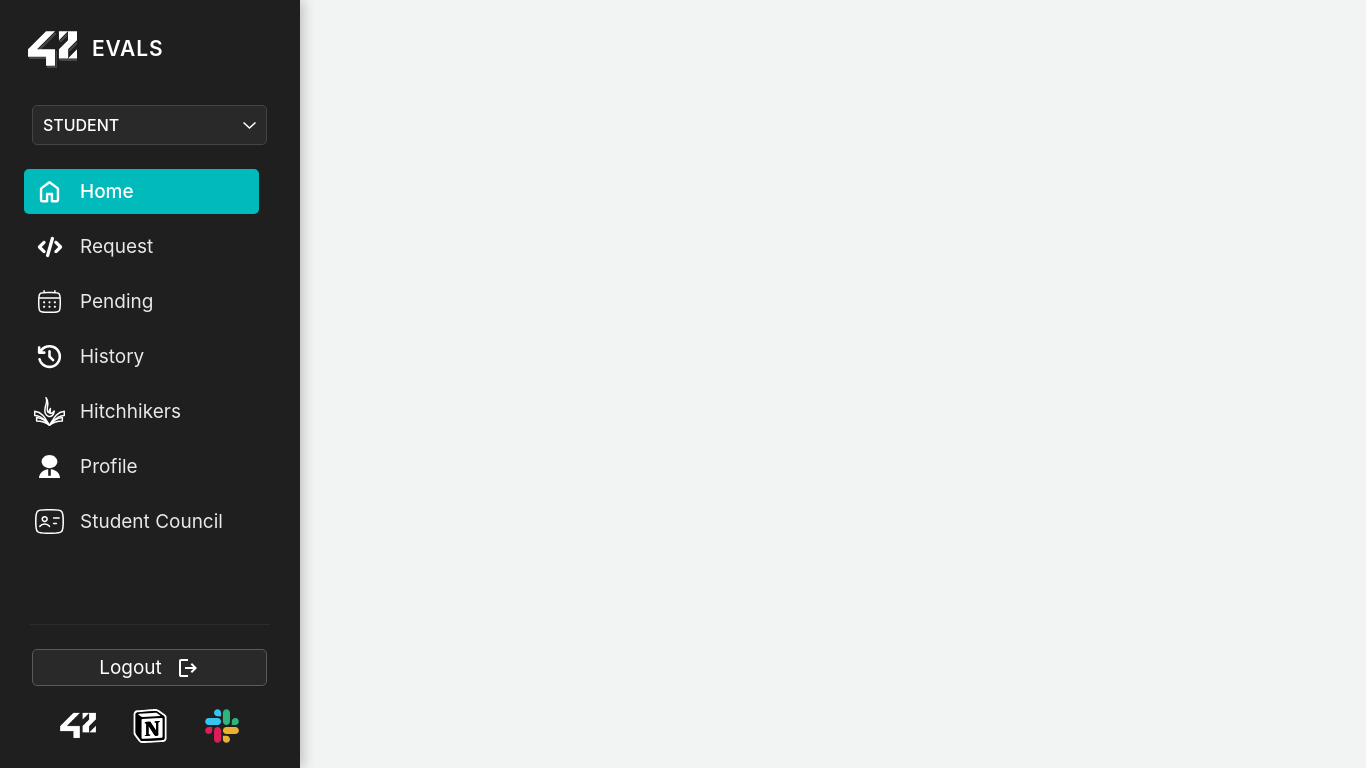
Test: Sidebar logout › shows an error toast when logout fails
Step 1. Click the button "Logout" → (150, 668), box [32,649,267,686]
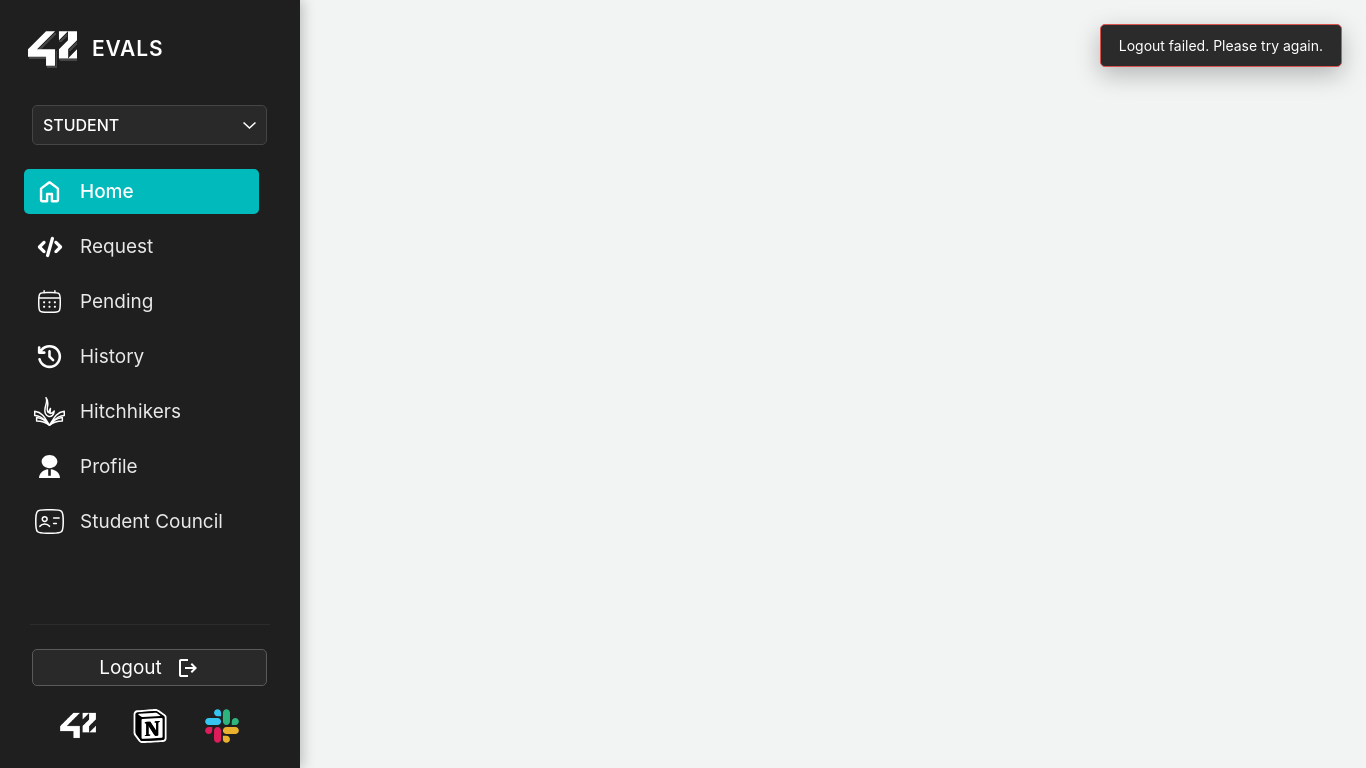
Expected: the message reads "Logout failed. Please try again.", [1119,37,1323,54]
